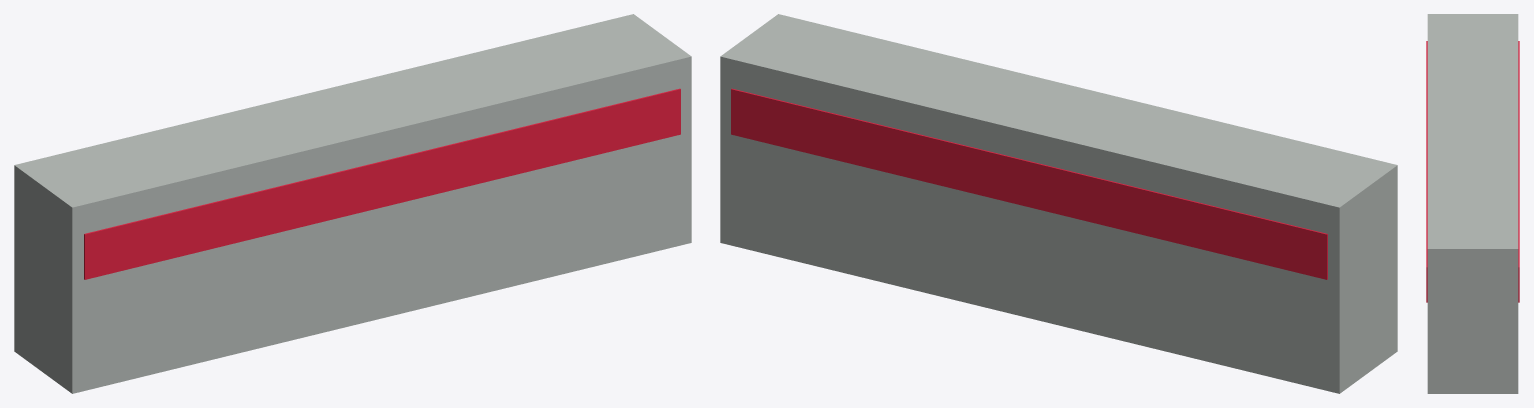
File: barrier-concrete.glb
3 renders of one model, left to right at view 1: azimuth 30°, elevation 25°; view 2: azimuth 150°, elevation 25°; view 3: azimuth 270°, elevation 25°, orthographic. The views are drawn at different scales.
Visible parts, largest first — view 1: concrete-barrier-4m; view 2: concrete-barrier-4m; view 3: concrete-barrier-4m.
Part boxes in pixels (bbox=[...]): concrete-barrier-4m: bbox=[14, 14, 691, 393]; concrete-barrier-4m: bbox=[720, 14, 1397, 393]; concrete-barrier-4m: bbox=[1426, 14, 1519, 393].
Size of the model in its own units: 4 by 1.15 by 0.67.
